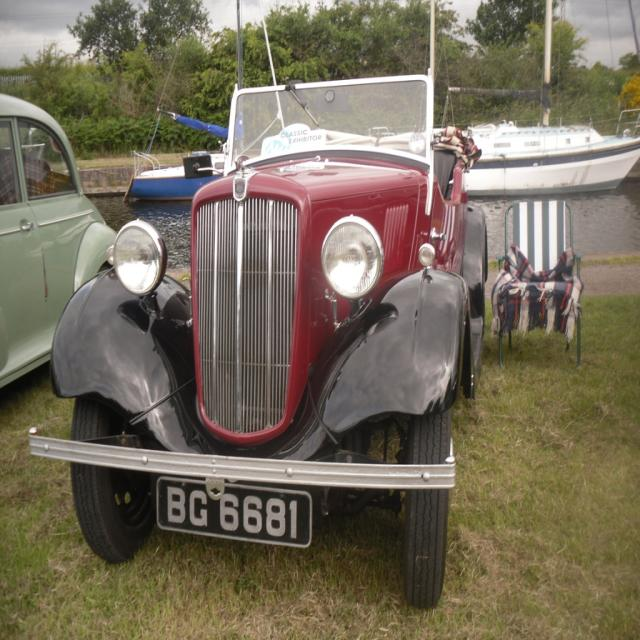car: (50, 49, 488, 609)
